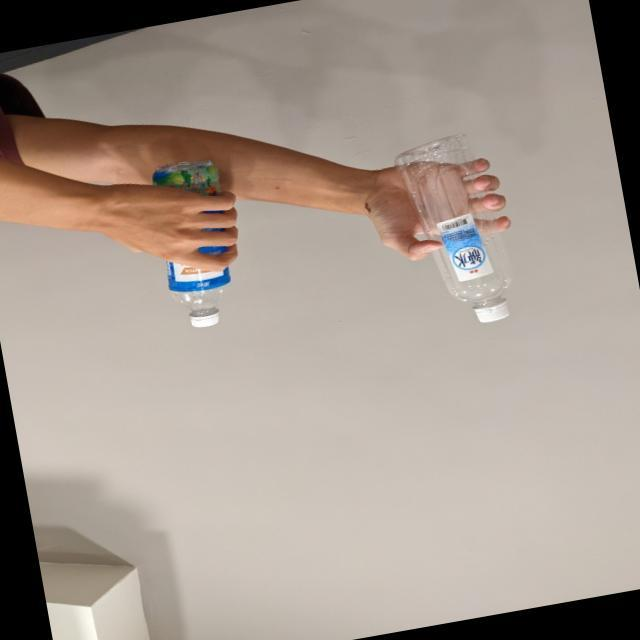good: (382, 124, 530, 336), (132, 152, 248, 336)
